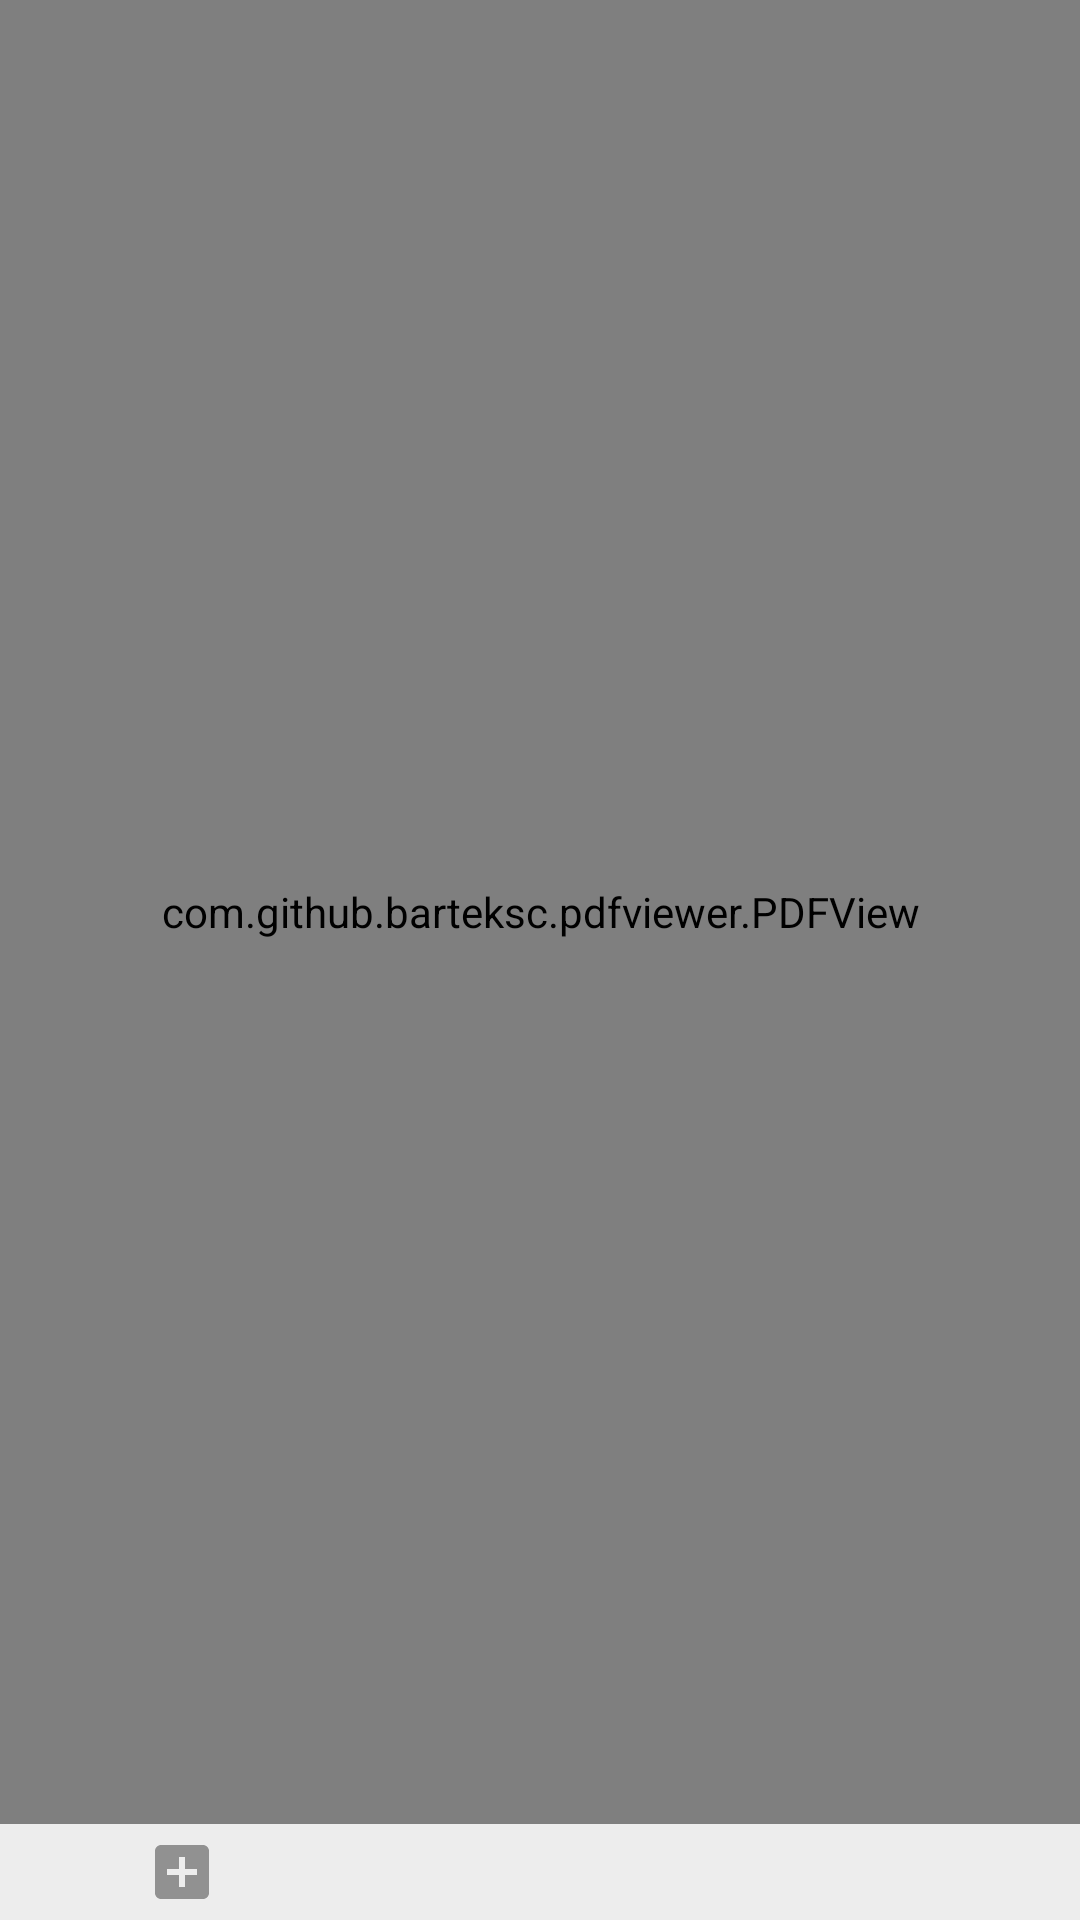

Icons on this 1080px x 1920px Android screen, each with the point to tap as (x,y):
add box: (182,1872)
